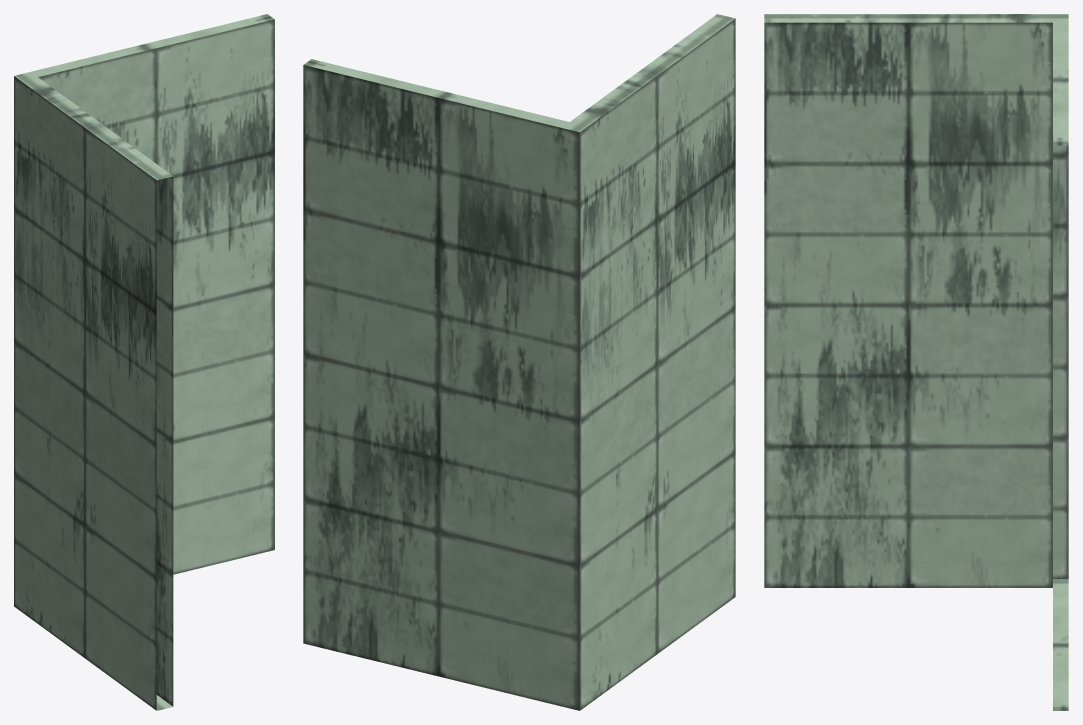
File: sm_wall_corner_02x005x01_a.fbx
The picture shows the model from 3 angles, left to right: view 1: azimuth 30°, elevation 25°; view 2: azimuth 150°, elevation 25°; view 3: azimuth 270°, elevation 25°; orthographic projection. The views are drawn at different scales.
Parts seen in each view (by area): view 1: sm_wall_corner_02x005x01_a; view 2: sm_wall_corner_02x005x01_a; view 3: sm_wall_corner_02x005x01_a.
Part boxes in pixels (<box>): sm_wall_corner_02x005x01_a: <box>14,14,274,710</box>; sm_wall_corner_02x005x01_a: <box>303,14,735,710</box>; sm_wall_corner_02x005x01_a: <box>764,14,1068,710</box>.
Bounding box in the file's own units: 100 × 200 × 97.5.
